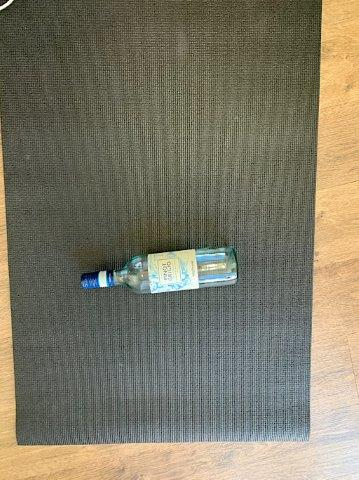botolkaca: (81, 244, 239, 292)
